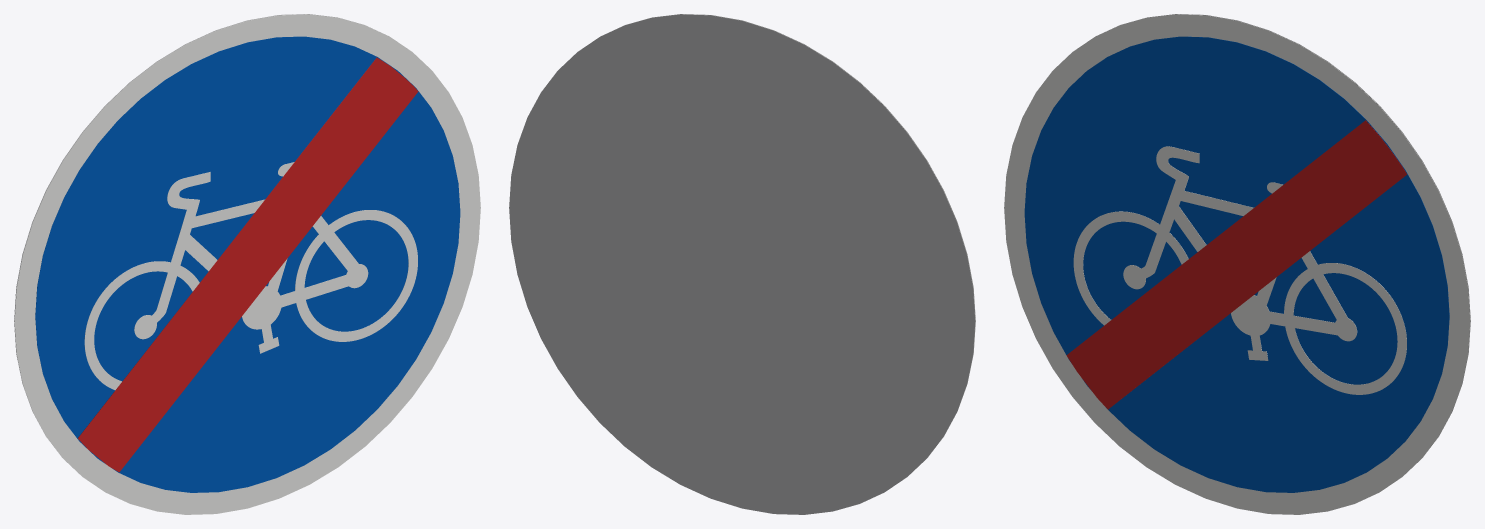
3 views of the same model, side by side, from view 1: azimuth 30°, elevation 25°; view 2: azimuth 150°, elevation 25°; view 3: azimuth 330°, elevation 25° (orthographic).
Parts seen in each view (by area): view 1: B40_p01, B40_p00, B40_p03, B40_p02, B40_dos; view 2: B40_dos, B40_p00; view 3: B40_p01, B40_p00, B40_p03, B40_p02, B40_dos.
Part boxes in pixels (x1,y1,x2,y2): B40_p01: [35, 36, 460, 492]; B40_p00: [14, 14, 480, 514]; B40_p03: [78, 57, 418, 472]; B40_p02: [84, 162, 417, 390]; B40_dos: [14, 14, 385, 473]; B40_dos: [509, 14, 975, 514]; B40_p00: [604, 14, 975, 473]; B40_p01: [1024, 36, 1449, 492]; B40_p00: [1004, 14, 1470, 514]; B40_p03: [1066, 120, 1406, 409]; B40_p02: [1073, 146, 1406, 394]; B40_dos: [1099, 14, 1470, 473].
Bounding box in the file's own units: 0.85 × 0.8498 × 0.0031.
